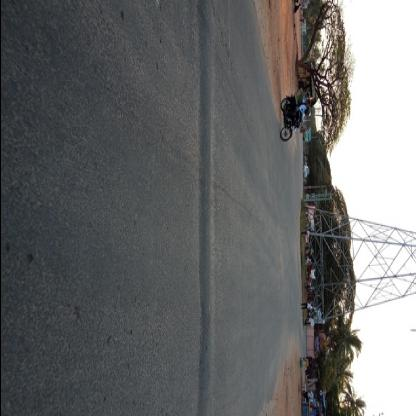speed-bumps: (191, 1, 217, 415)
